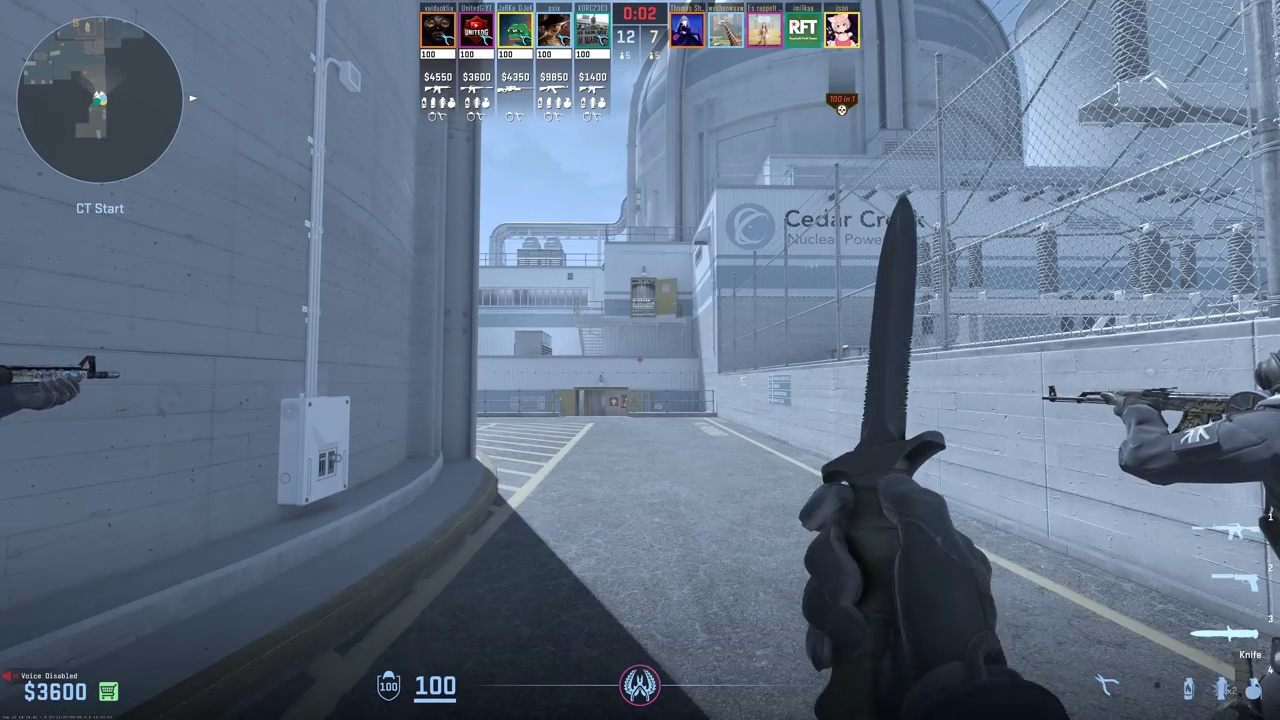CT: (1194, 343, 1280, 720)
